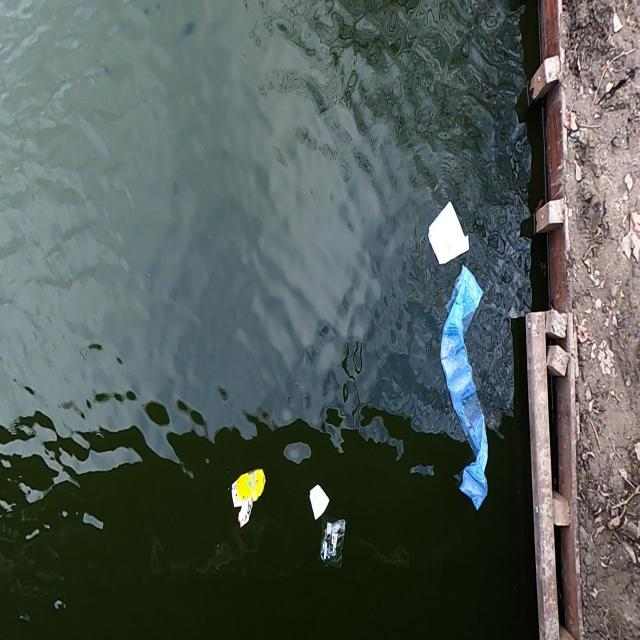Autre plastique: (426, 200, 472, 268)
Non plastique: (307, 480, 331, 524)
Sac plastique: (439, 264, 497, 524), (225, 458, 271, 530), (319, 516, 350, 580)
